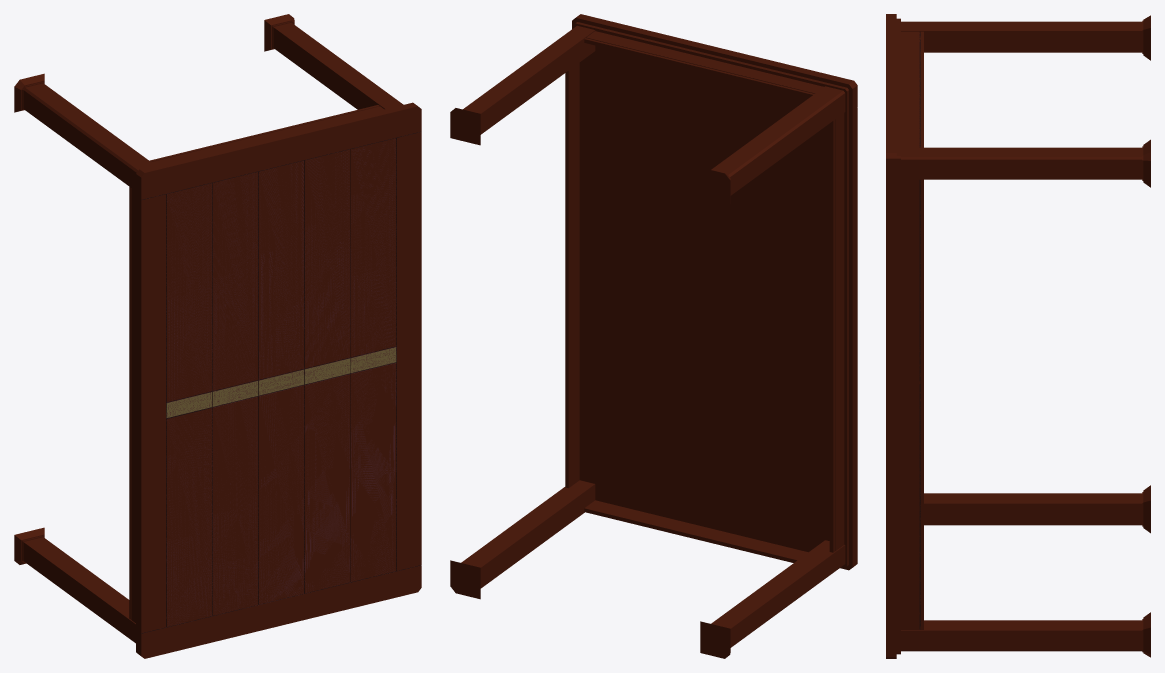
3 views of the same model, side by side, from view 1: azimuth 30°, elevation 25°; view 2: azimuth 150°, elevation 25°; view 3: azimuth 270°, elevation 25° (orthographic). The views are drawn at different scales.
Parts seen in each view (by area): view 1: mission dining table; view 2: mission dining table; view 3: mission dining table.
Boxes of the visible parts, x1,y1,x2,y2 form: mission dining table: (14, 14, 421, 658); mission dining table: (450, 14, 857, 658); mission dining table: (886, 14, 1150, 658).
Bounding box in the file's own units: 39.5 × 65.38 × 31.
